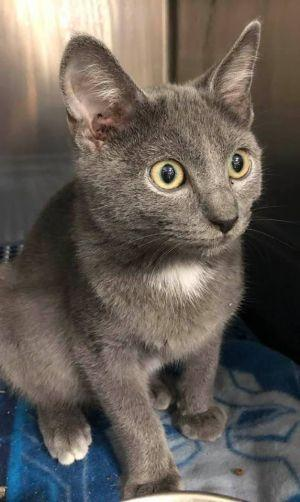rblue: (36, 1, 283, 294)
